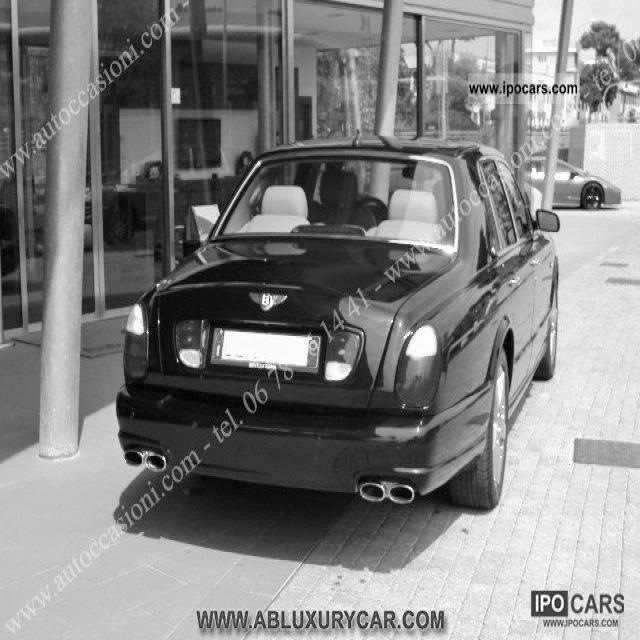car: (115, 130, 560, 510), (523, 155, 621, 209)
